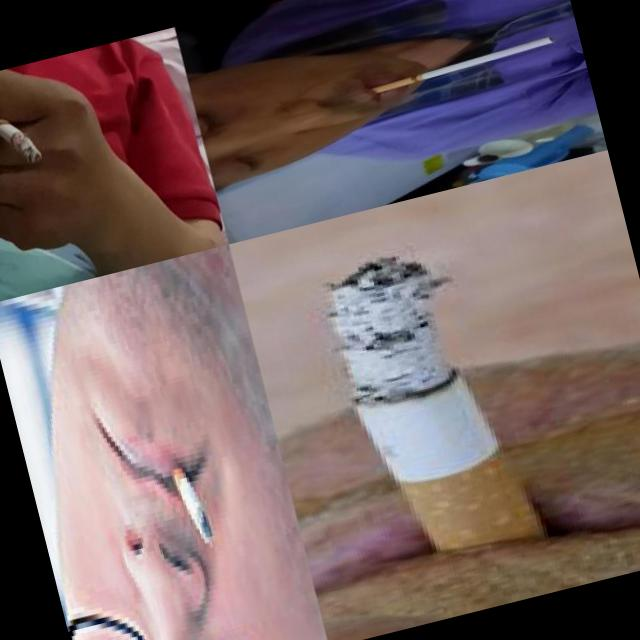cigarette: (318, 229, 571, 604), (369, 34, 558, 94), (162, 444, 216, 550), (0, 102, 44, 171)
